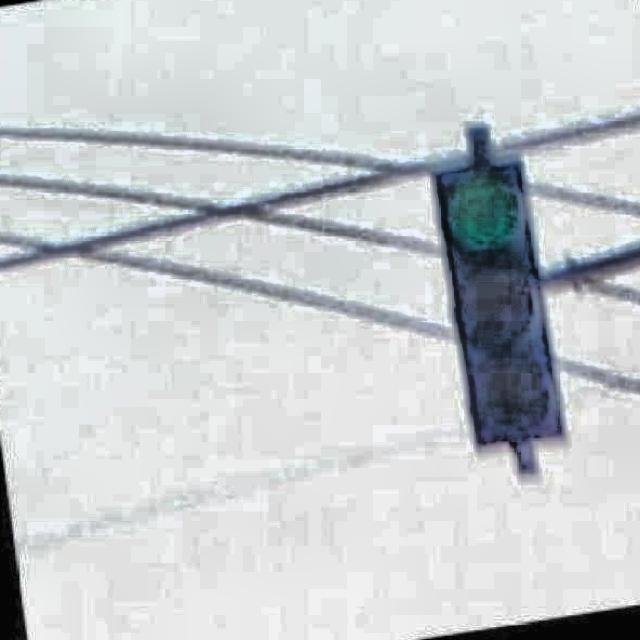green: (428, 159, 563, 458)
